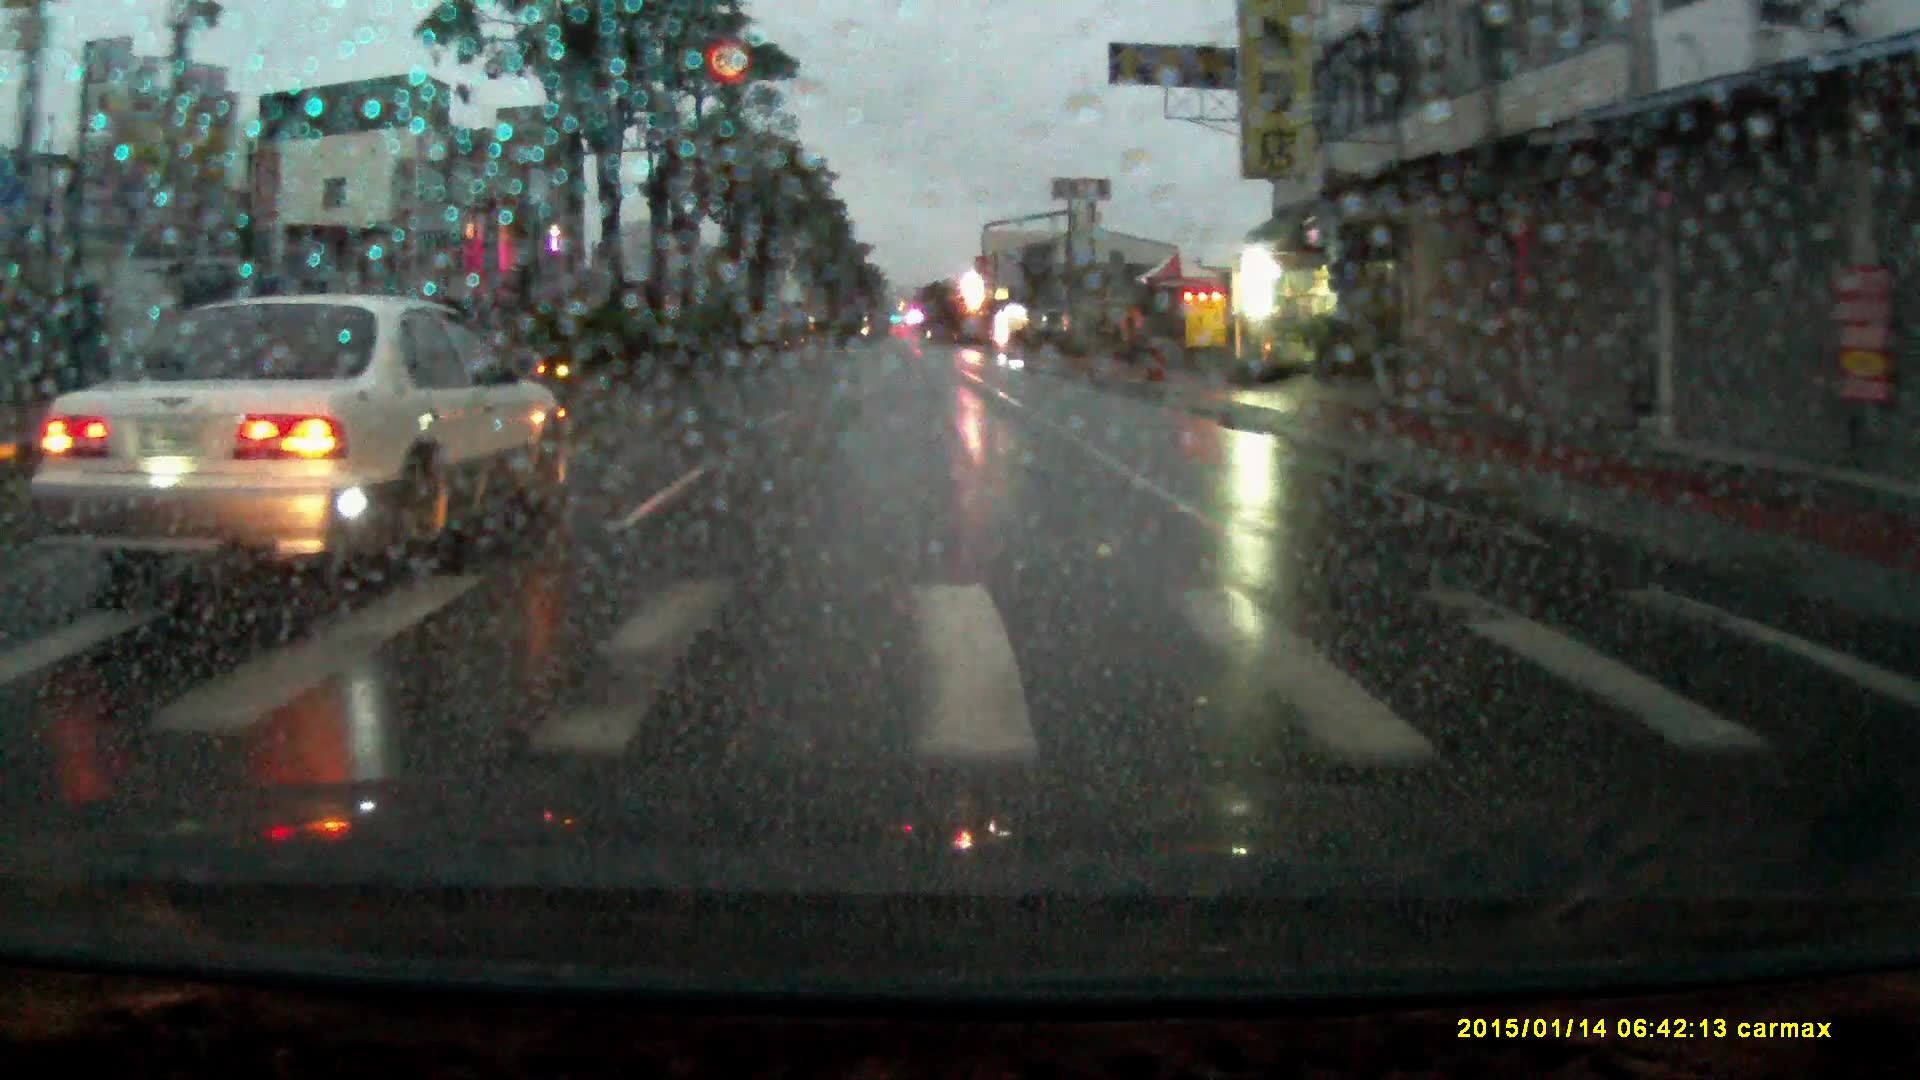vehicle: (34, 282, 558, 584)
